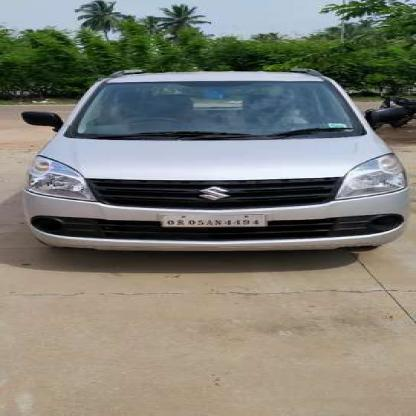license_plate: (159, 212, 265, 226)
